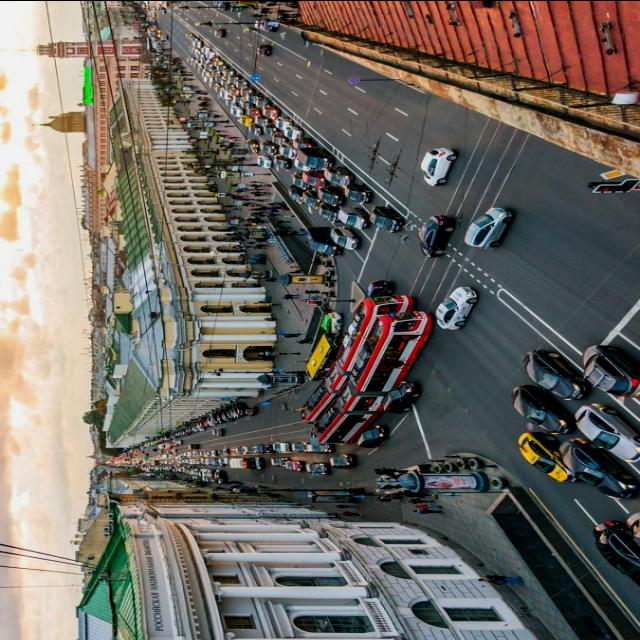bus: (305, 328, 342, 381)
